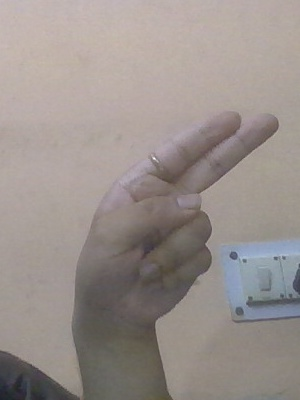H: (61, 106, 280, 341)
